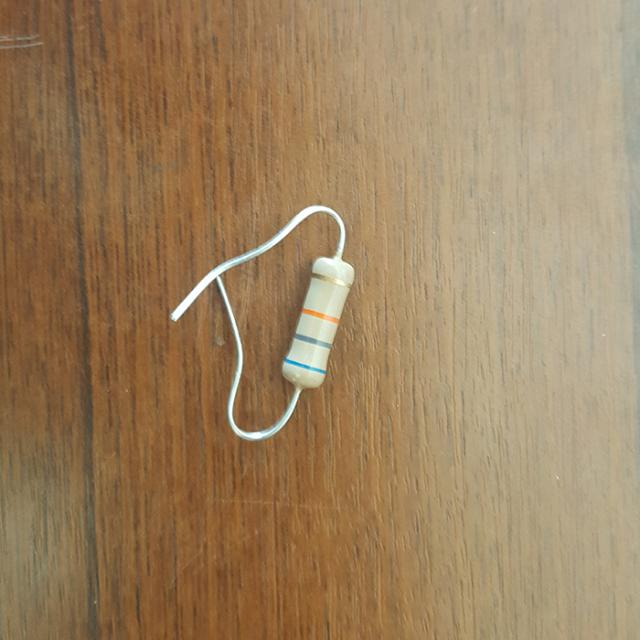blue: (283, 357, 325, 373)
gold: (311, 271, 349, 285)
grey: (294, 334, 330, 348)
orange: (302, 308, 337, 323)
resistor: (255, 234, 367, 401)
